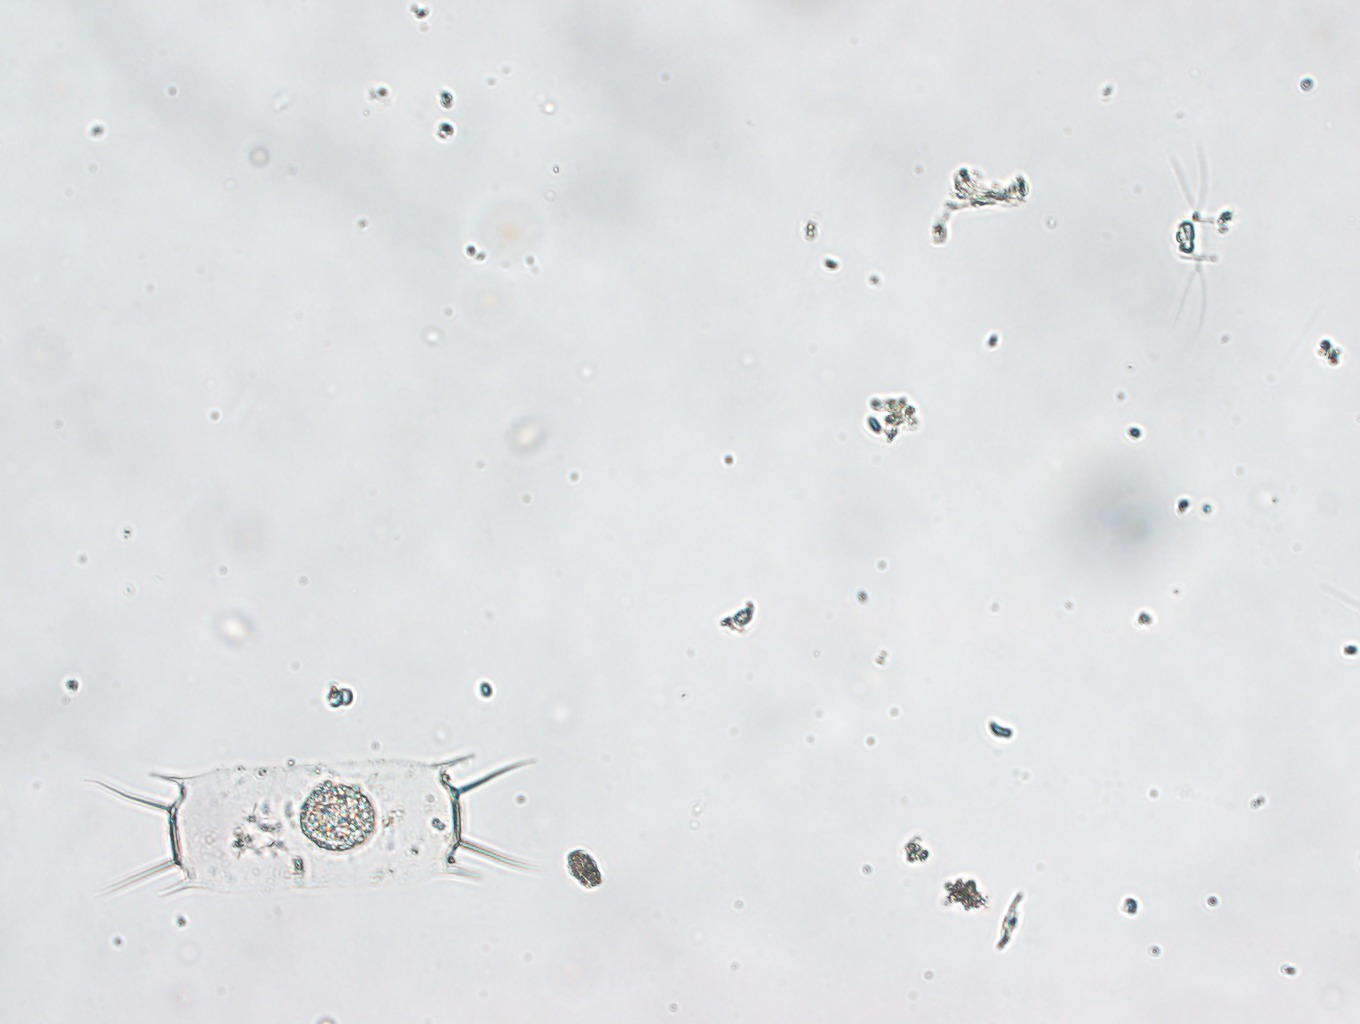biddulphia: (82, 730, 588, 923)
chaetoceros: (1119, 130, 1248, 359)
